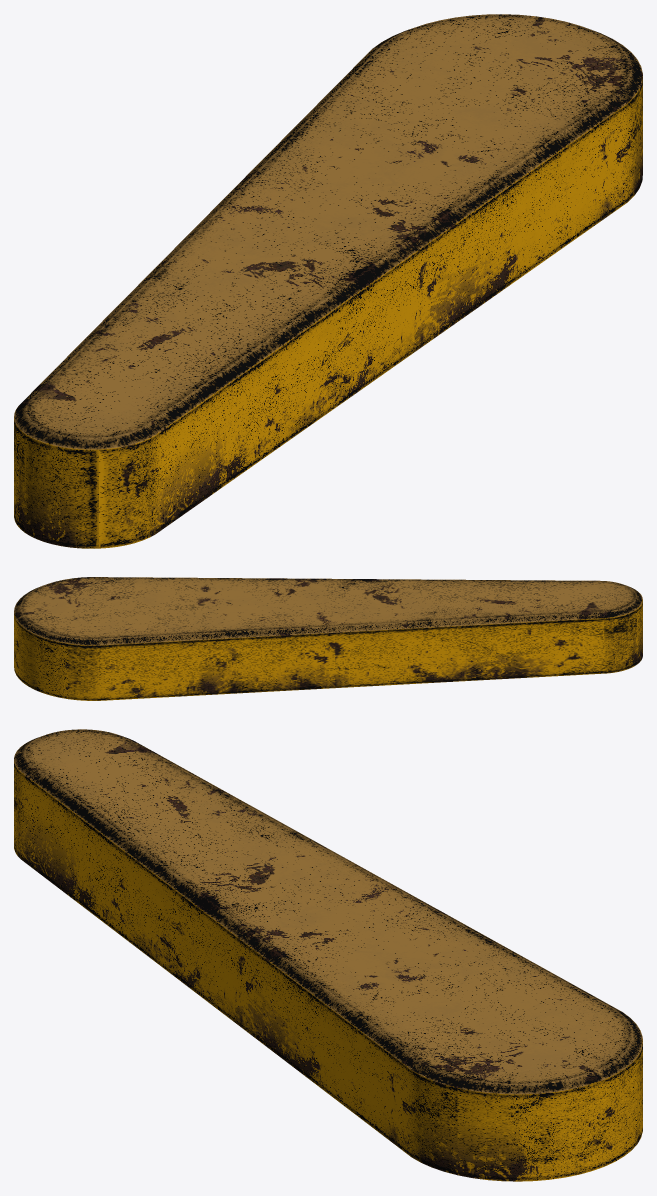
Rendered from newpinball_rebar11.fbx.
3 renders of one model, top to bottom at view 1: azimuth 30°, elevation 25°; view 2: azimuth 150°, elevation 25°; view 3: azimuth 270°, elevation 25°, orthographic. The views are drawn at different scales.
Visible parts, largest first — view 1: rebar11; view 2: rebar11; view 3: rebar11.
Part boxes in pixels (box(x1,y1,x2,y2)): rebar11: box(14, 14, 642, 548); rebar11: box(14, 577, 642, 700); rebar11: box(14, 729, 642, 1181).
Bounding box in the file's own units: 38.2 × 4.55 × 27.92.
